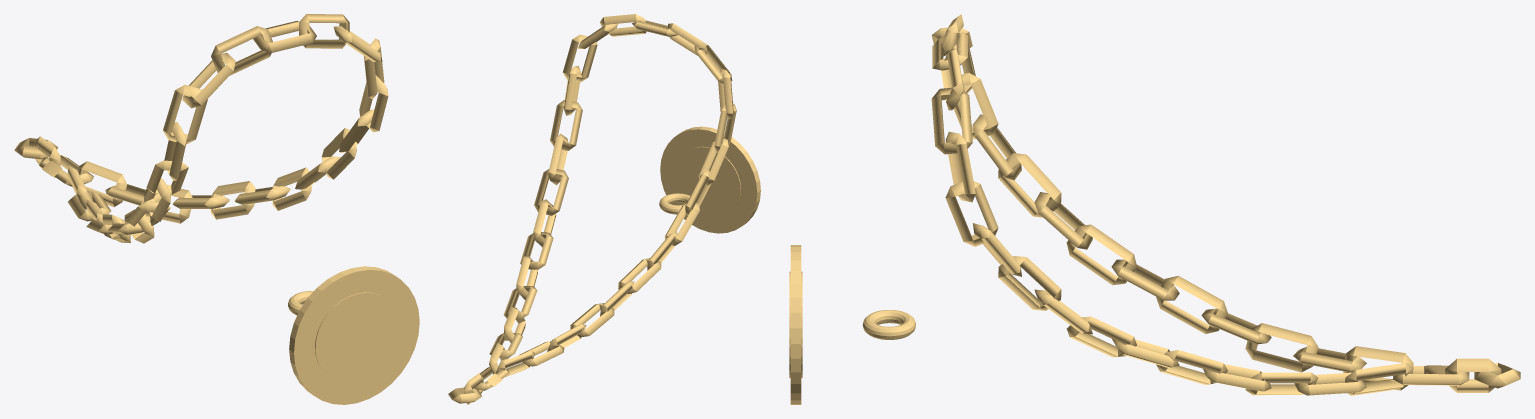
File: chain_gold_ashlane.glb
3 views of the same model, side by side, from view 1: azimuth 30°, elevation 25°; view 2: azimuth 150°, elevation 25°; view 3: azimuth 270°, elevation 25° (orthographic). The views are drawn at different scales.
Visible parts, largest first — view 1: Object_6, gold_ashlane_Pendant, gold_ashlane_Inner; view 2: Object_6, gold_ashlane_Pendant, gold_ashlane_Inner, gold_ashlane_Bail; view 3: Object_6, gold_ashlane_Pendant, gold_ashlane_Bail.
Part boxes in pixels (x1=…): Object_6: x1=14, y1=14, x2=388, y2=243; gold_ashlane_Pendant: x1=289, y1=266, x2=419, y2=404; gold_ashlane_Inner: x1=315, y1=292, x2=399, y2=382; Object_6: x1=448, y1=14, x2=736, y2=404; gold_ashlane_Pendant: x1=660, y1=126, x2=760, y2=233; gold_ashlane_Inner: x1=676, y1=146, x2=740, y2=216; gold_ashlane_Bail: x1=659, y1=193, x2=690, y2=214; Object_6: x1=931, y1=14, x2=1520, y2=395; gold_ashlane_Pendant: x1=790, y1=245, x2=801, y2=404; gold_ashlane_Bail: x1=862, y1=310, x2=915, y2=339.
Size of the model in its own units: 2.12 by 2.99 by 5.48.
